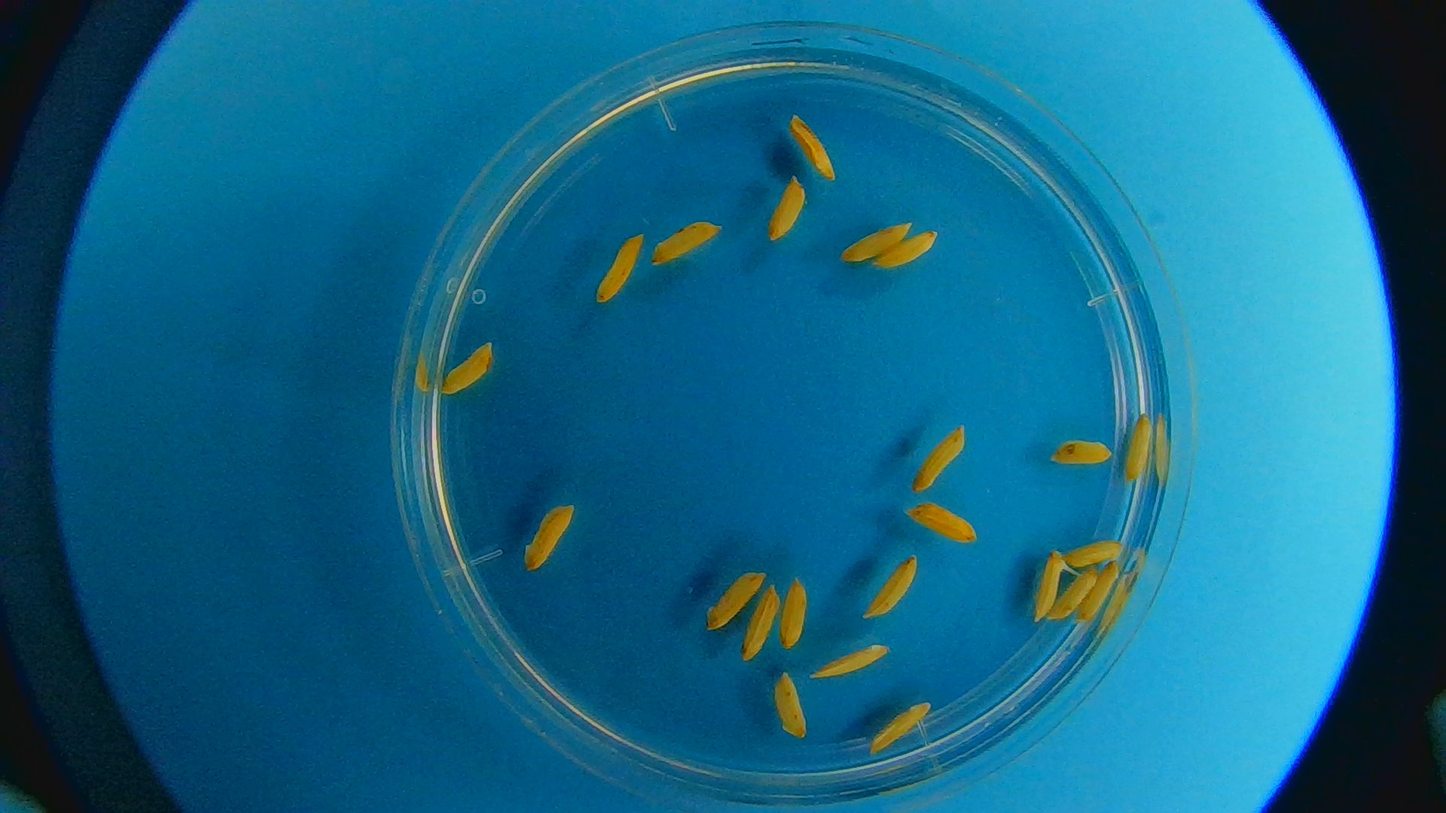no: (909, 424, 968, 496), (593, 228, 646, 300), (704, 570, 765, 632), (520, 503, 572, 573), (438, 336, 496, 397), (1075, 560, 1127, 627), (864, 556, 921, 617), (866, 702, 934, 752), (651, 218, 725, 263), (789, 113, 837, 180), (811, 644, 890, 683), (845, 222, 914, 265), (905, 501, 977, 541), (743, 586, 782, 659), (765, 176, 805, 241), (773, 670, 810, 739), (874, 230, 940, 268), (1124, 413, 1155, 485), (779, 577, 807, 649), (1053, 439, 1115, 467), (1067, 538, 1121, 570)
yes: (1033, 553, 1070, 623)
